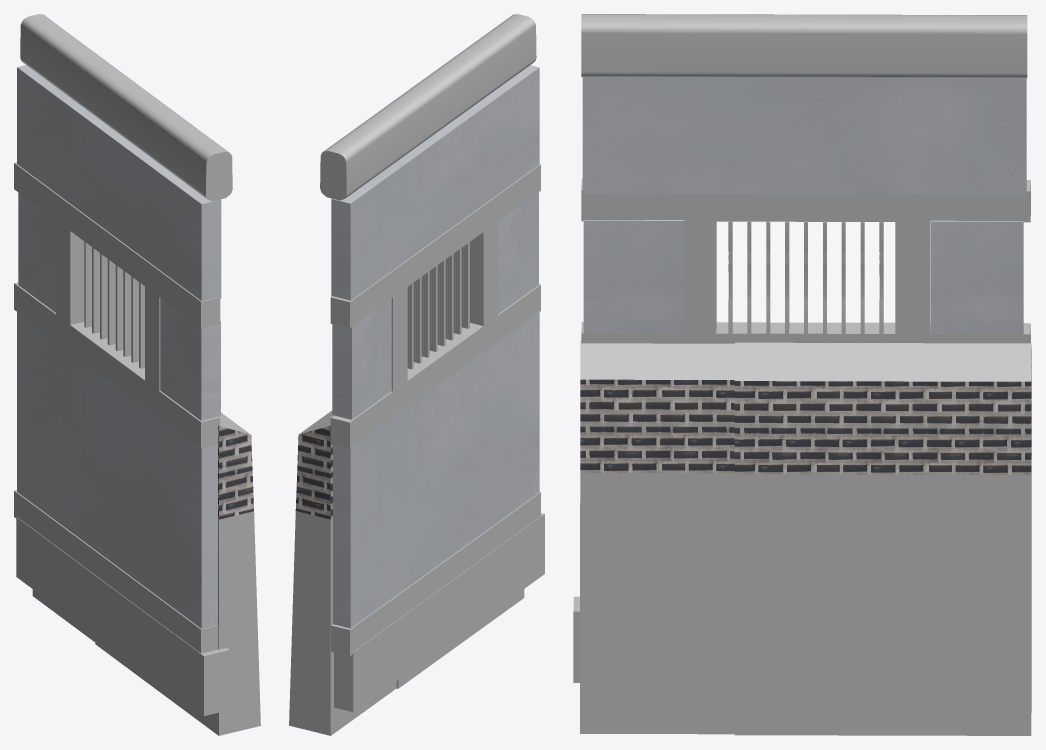
File: SM_RoomWall_002.fbx
3 views of the same model, side by side, from view 1: azimuth 30°, elevation 25°; view 2: azimuth 150°, elevation 25°; view 3: azimuth 270°, elevation 25° (orthographic). The views are drawn at different scales.
Visible parts, largest first — view 1: SM_RoomWall_002; view 2: SM_RoomWall_002; view 3: SM_RoomWall_002.
Boxes of the visible parts, left/top/right/bottom form: SM_RoomWall_002: left=14, top=14, right=260, bottom=735; SM_RoomWall_002: left=289, top=14, right=544, bottom=735; SM_RoomWall_002: left=573, top=14, right=1031, bottom=735.
Size of the model in its own units: 49.78 by 262 by 437.
